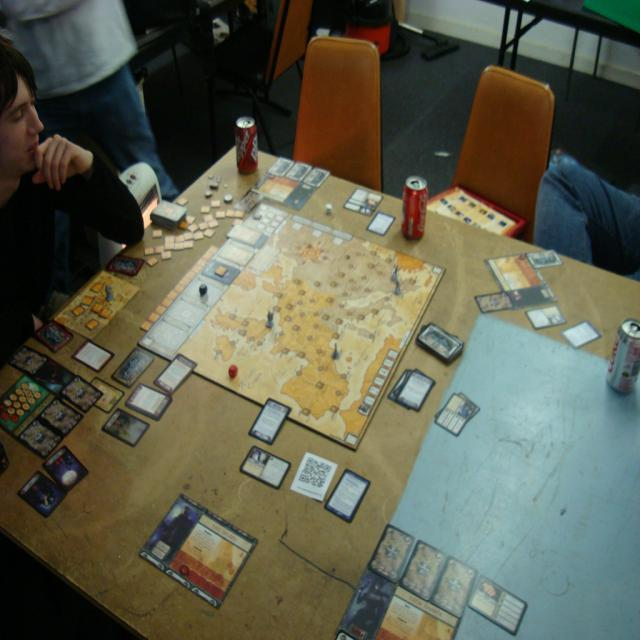qrcode: (300, 458, 332, 489)
